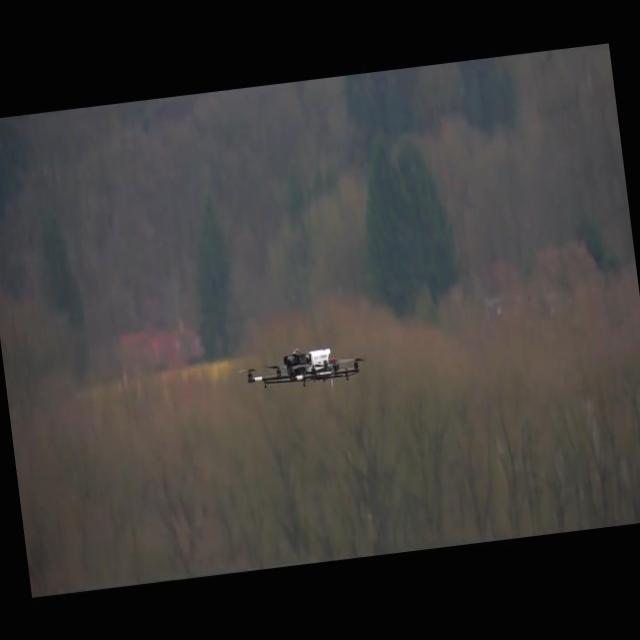drone: (242, 338, 366, 402)
